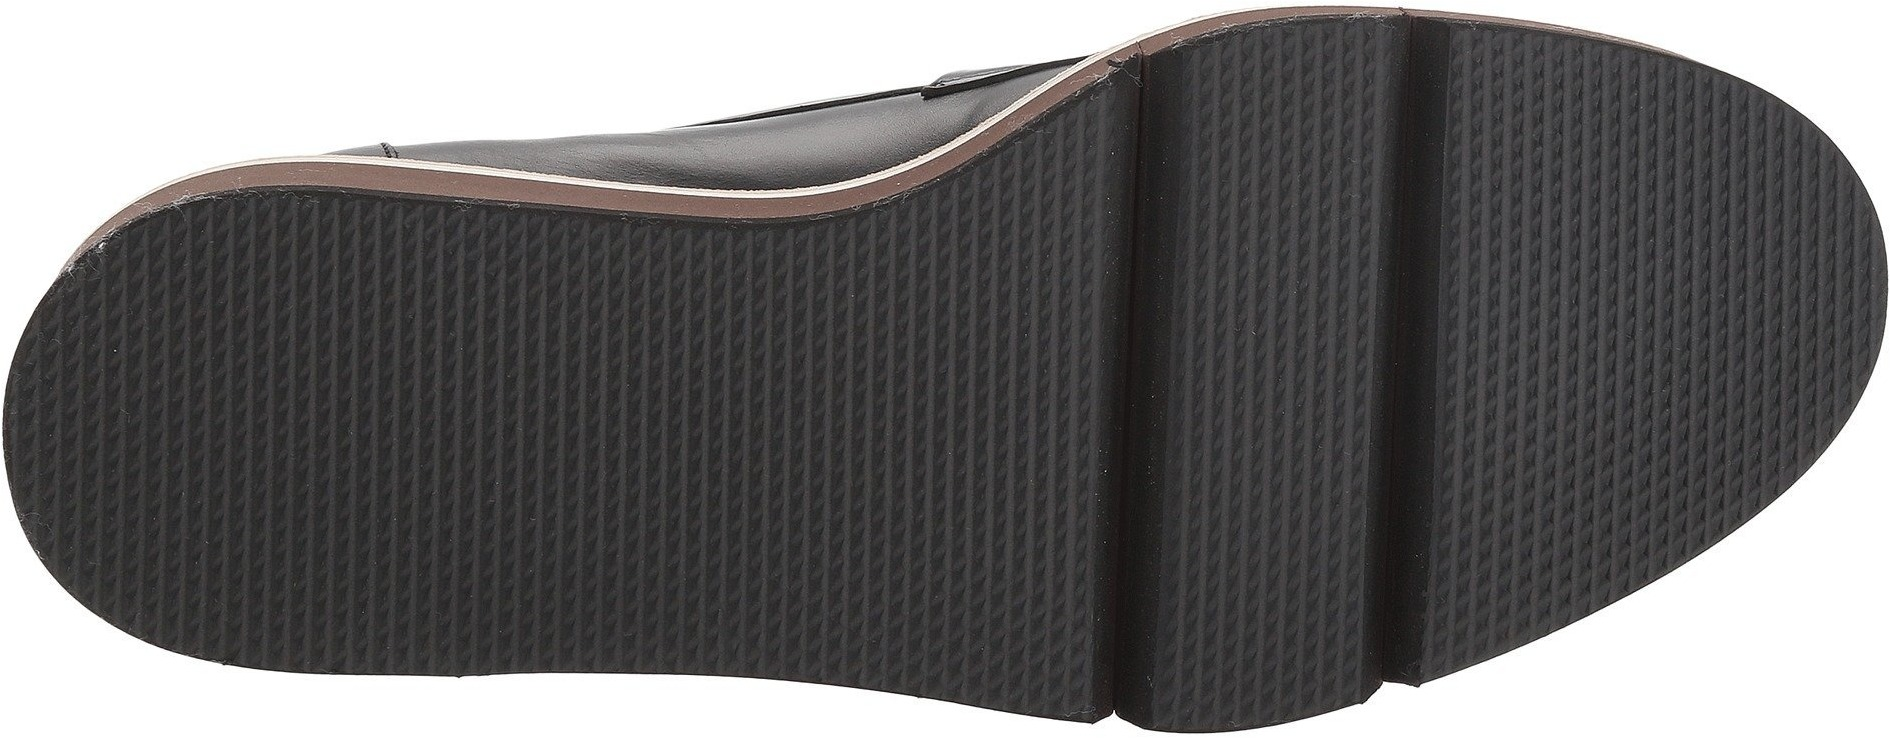other: (745, 248, 1082, 592), (407, 219, 715, 547), (106, 245, 391, 534), (1614, 134, 1821, 445), (1474, 54, 1597, 576), (1192, 61, 1377, 371), (1186, 383, 1348, 692)
